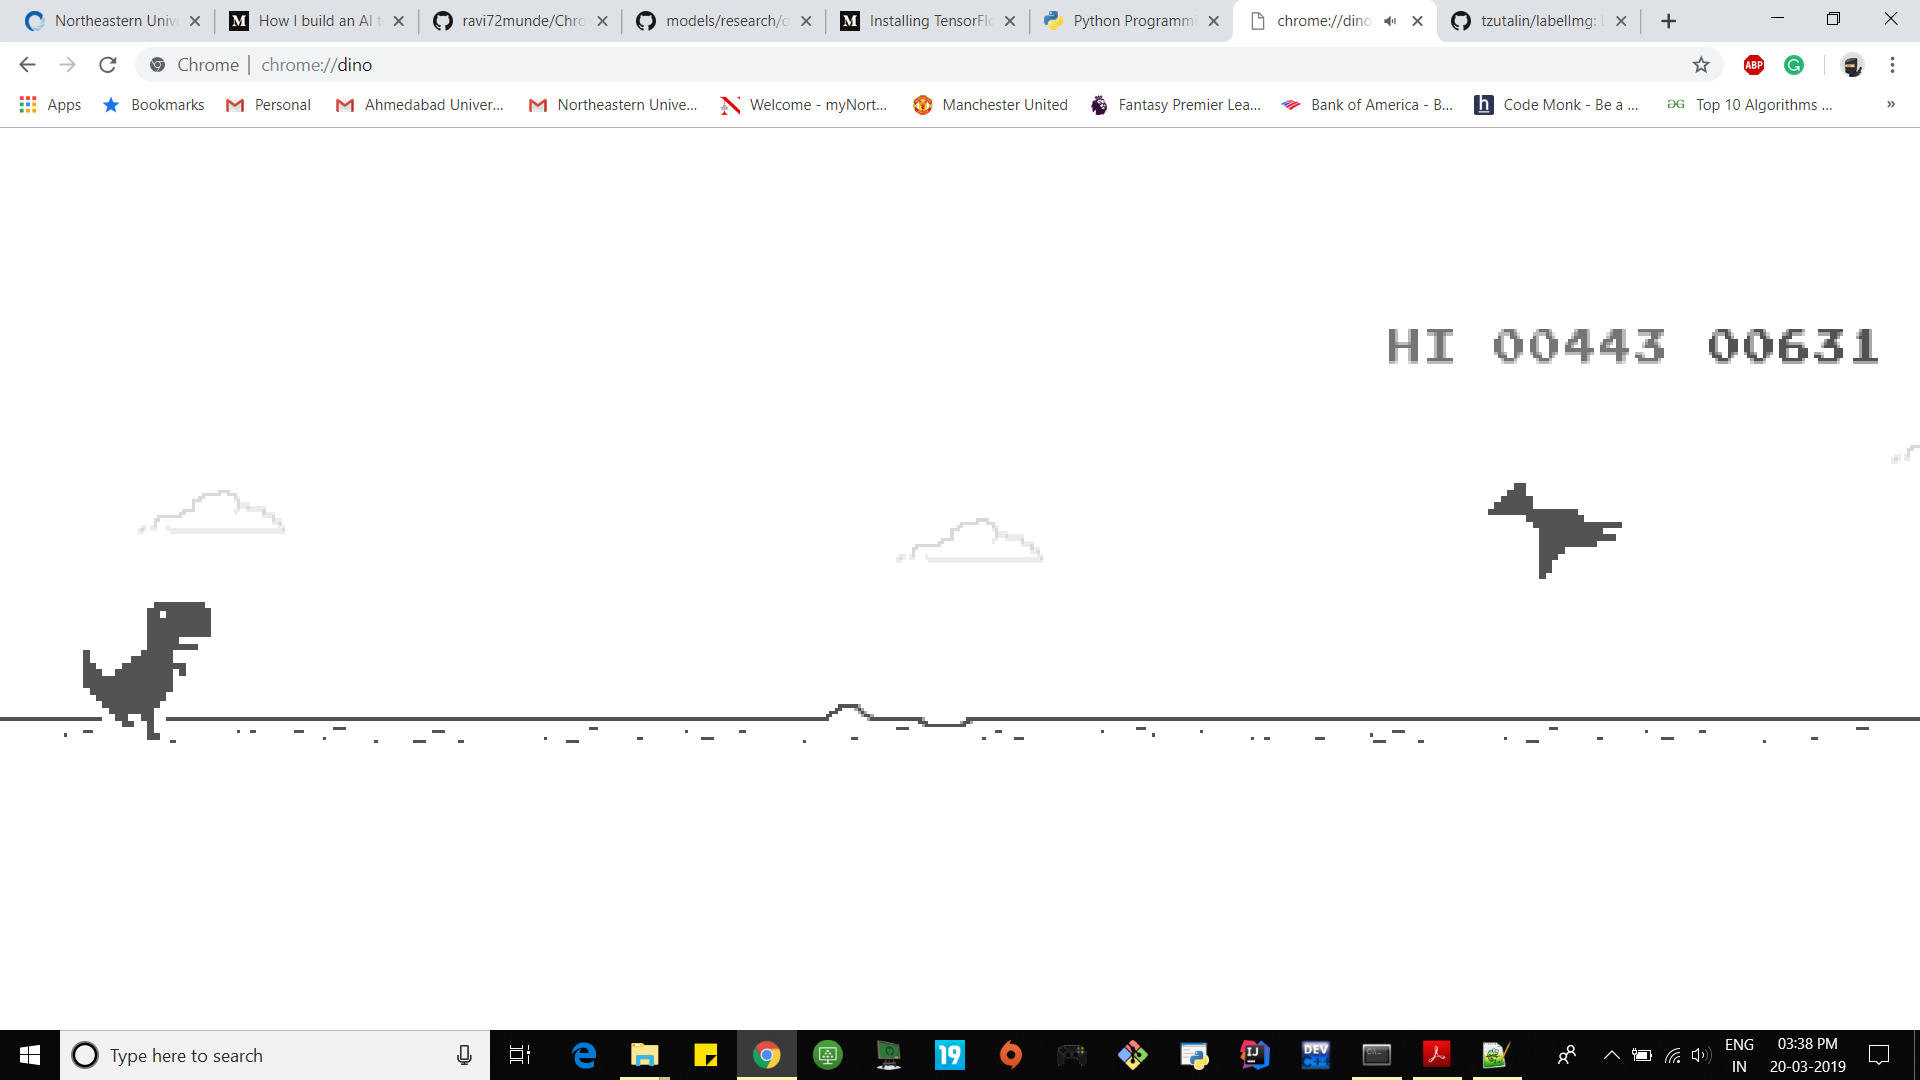bird: (1485, 483, 1629, 582)
dino: (84, 599, 212, 740)
